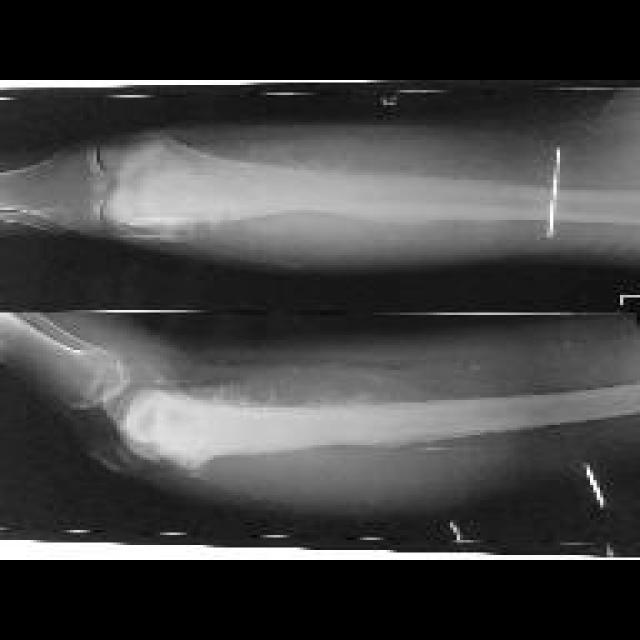bone-cancer: (120, 362, 510, 514), (105, 125, 503, 269)
